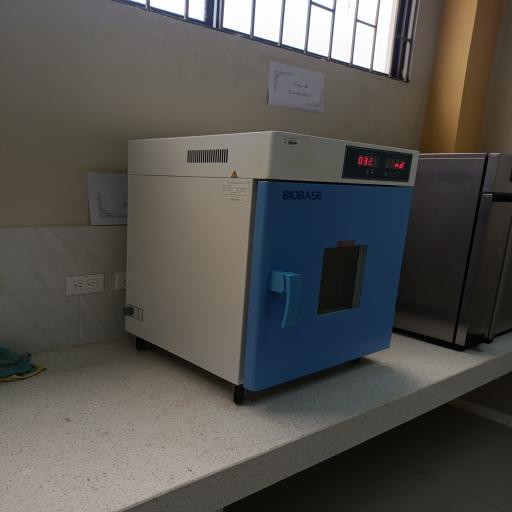Horno_Secado_Biobase: (116, 123, 436, 402)
